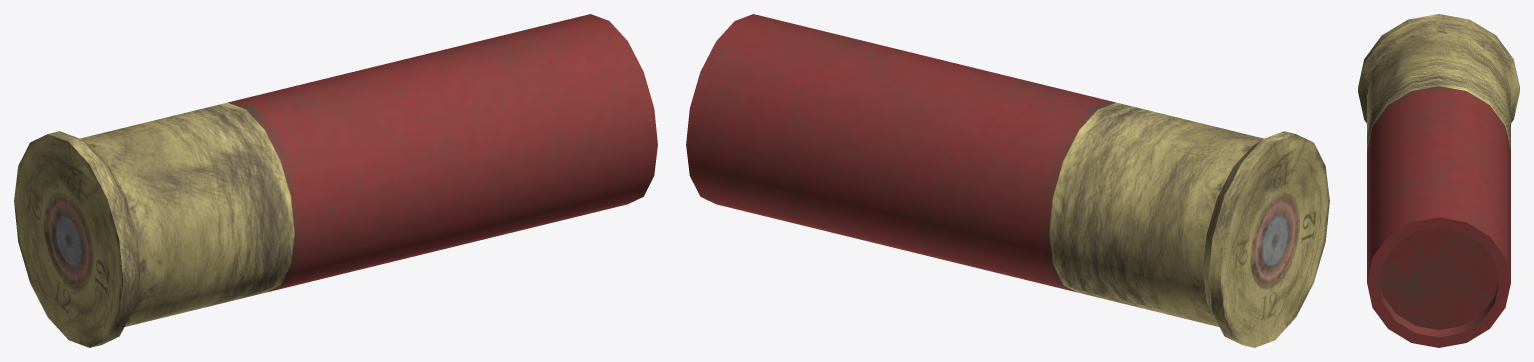
Rendered from gauge.fbx.
3 renders of one model, left to right at view 1: azimuth 30°, elevation 25°; view 2: azimuth 150°, elevation 25°; view 3: azimuth 270°, elevation 25°, orthographic. The views are drawn at different scales.
Parts seen in each view (by area): view 1: gauge_low; view 2: gauge_low; view 3: gauge_low.
Part boxes in pixels (x1=…): gauge_low: x1=14, y1=14, x2=657, y2=347; gauge_low: x1=686, y1=14, x2=1329, y2=347; gauge_low: x1=1358, y1=14, x2=1519, y2=347.
Size of the model in its own units: 28.41 by 9.96 by 9.96.
